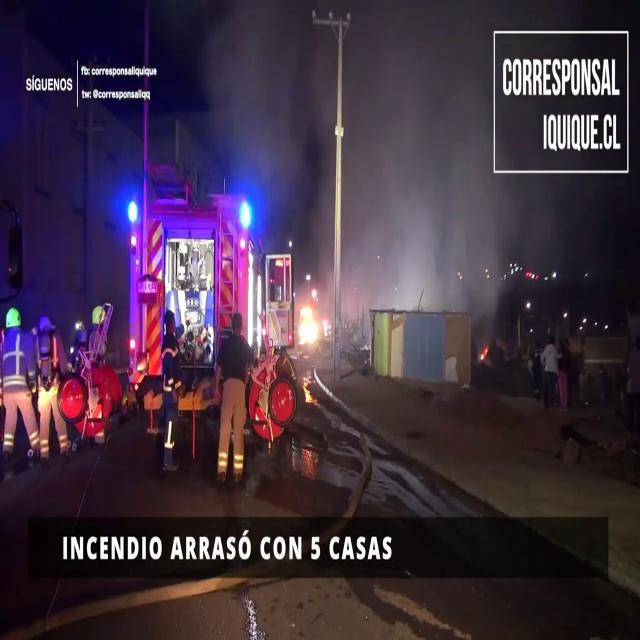Fire: (296, 298, 326, 352)
Smoke: (228, 8, 576, 268)
